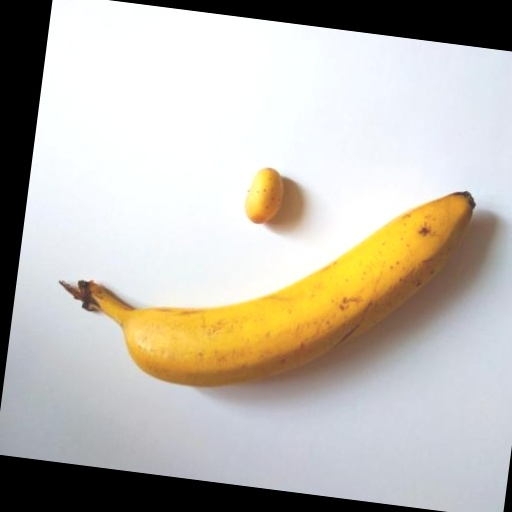fruit: (61, 192, 473, 386), (244, 168, 282, 224)
